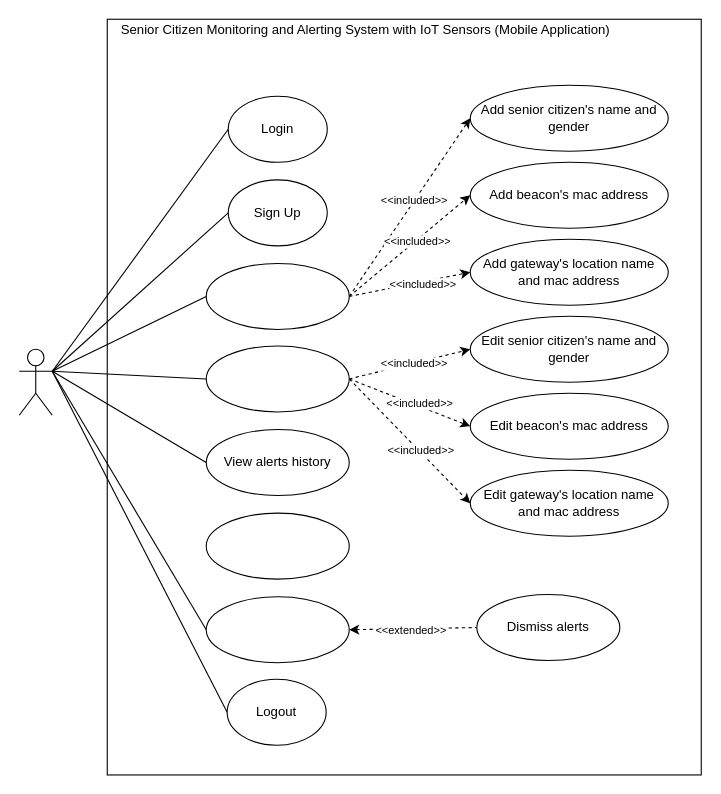
The diagram is 721 pixels wide and 794 high, and some of its shapes have lost their labels. Here are the shapes that lost their labels. From the top down, the centre of each, then its label:
pixel 277 295: Register system required information
pixel 35 381: User
pixel 277 378: Update system required information
pixel 277 545: View senior citizen's current location
pixel 277 629: Receive alerts
